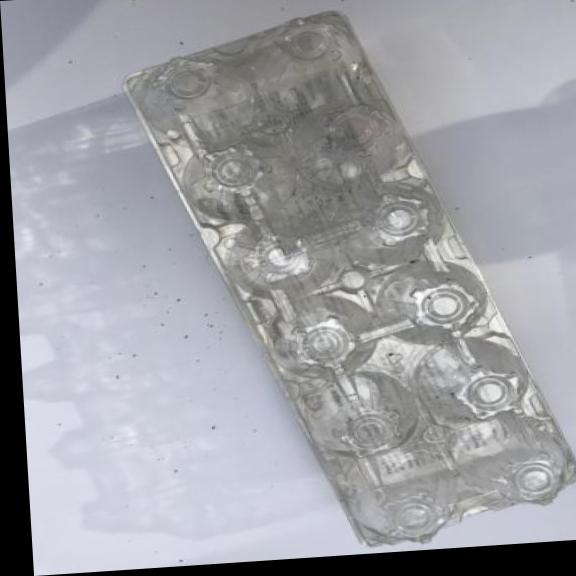Plastik: (109, 0, 576, 563)
